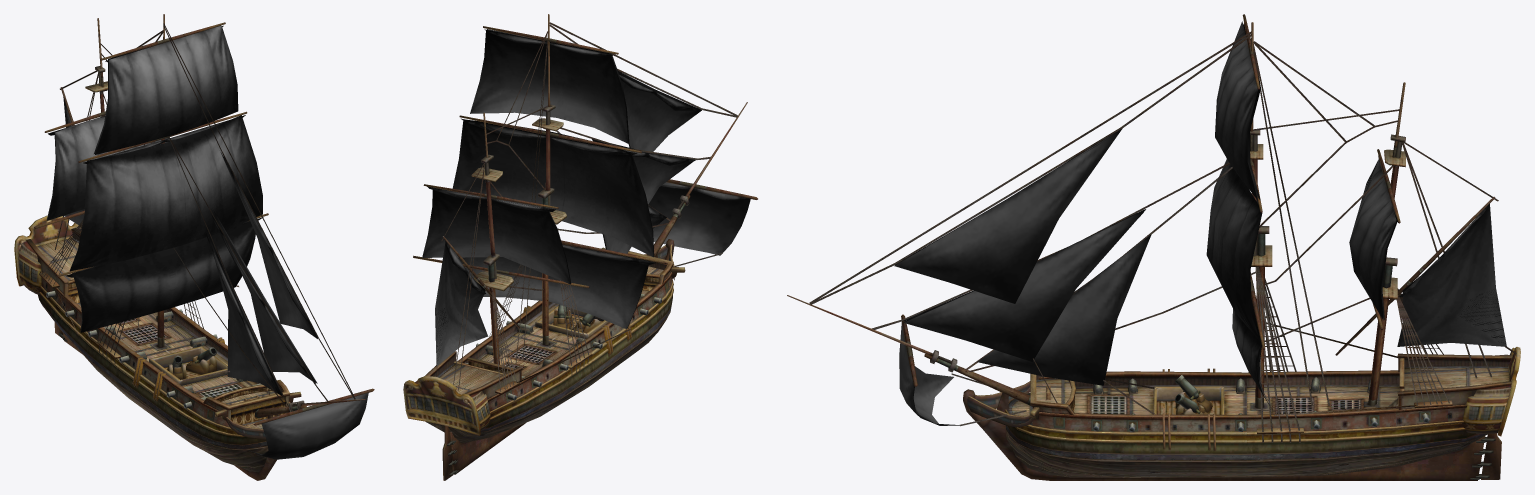
The model's file is T_Ship_07.fbx.
3 renders of one model, left to right at view 1: azimuth 30°, elevation 25°; view 2: azimuth 150°, elevation 25°; view 3: azimuth 270°, elevation 25°, orthographic. The views are drawn at different scales.
Parts seen in each view (by area): view 1: T_Ship_p1, T_Ship_07, T_Ship_07_p2, T_Ship_p1_off, T_Ship_07_p3, T_Ship_07_p4; view 2: T_Ship_p1, T_Ship_07, T_Ship_07_p2, T_Ship_p1_off, T_Ship_07_p3, T_Ship_07_p4, T_Ship_07_p5; view 3: T_Ship_p1, T_Ship_07, T_Ship_07_p2, T_Ship_07_p3, T_Ship_07_p4, T_Ship_07_p5.
Boxes of the visible parts, x1=… form: T_Ship_p1: x1=47, y1=25, x2=368, y2=459; T_Ship_07: x1=14, y1=14, x2=374, y2=440; T_Ship_07_p2: x1=37, y1=278, x2=288, y2=450; T_Ship_p1_off: x1=48, y1=25, x2=316, y2=394; T_Ship_07_p3: x1=83, y1=355, x2=268, y2=472; T_Ship_07_p4: x1=63, y1=333, x2=276, y2=480; T_Ship_p1: x1=422, y1=29, x2=750, y2=365; T_Ship_07: x1=403, y1=14, x2=757, y2=435; T_Ship_07_p2: x1=428, y1=277, x2=673, y2=431; T_Ship_p1_off: x1=427, y1=29, x2=750, y2=294; T_Ship_07_p3: x1=426, y1=321, x2=665, y2=443; T_Ship_07_p4: x1=449, y1=239, x2=674, y2=474; T_Ship_07_p5: x1=442, y1=426, x2=456, y2=480; T_Ship_p1: x1=894, y1=21, x2=1506, y2=425; T_Ship_07: x1=787, y1=14, x2=1520, y2=450; T_Ship_07_p2: x1=1004, y1=377, x2=1485, y2=462; T_Ship_07_p3: x1=1006, y1=431, x2=1488, y2=477; T_Ship_07_p4: x1=963, y1=389, x2=1486, y2=480; T_Ship_07_p5: x1=1475, y1=433, x2=1501, y2=479.
Size of the model in its own units: 5.02 by 8.58 by 12.45.
Materials: 2 (2 with a texture image).
